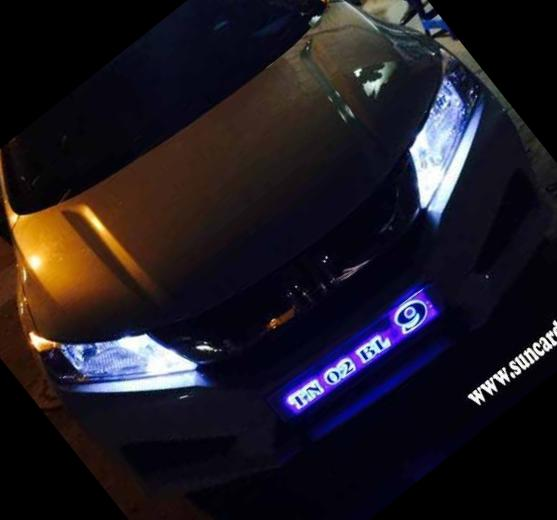plate: (261, 265, 457, 440)
